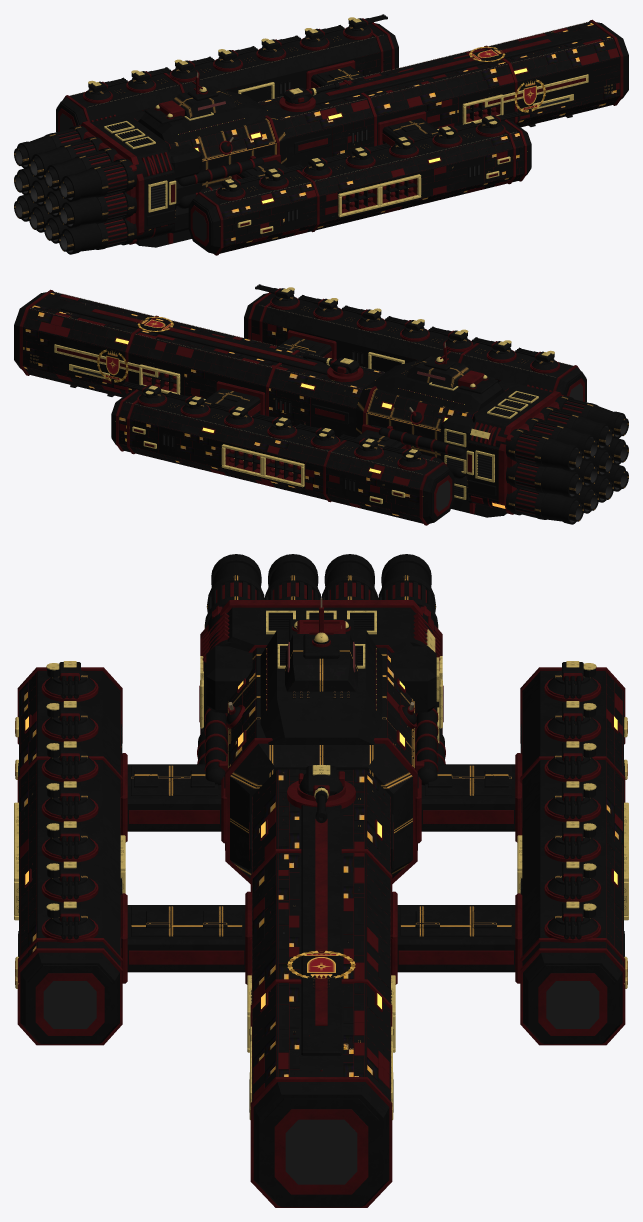
The picture shows the model from 3 angles, top to bottom: view 1: azimuth 30°, elevation 25°; view 2: azimuth 150°, elevation 25°; view 3: azimuth 270°, elevation 25°; orthographic projection. The views are drawn at different scales.
Visible parts, largest first — view 1: pontoons_pont_mid, hull_hull_mid, citadel_mid, pontoons_dark, citadel_light, engines.thruster.003, hull_mid, engines_mid, hull_dark, engines.thruster.011, engines.thruster.007, engines_dark (+34 smaller); view 2: pontoons_pont_mid, hull_hull_mid, citadel_mid, pontoons_dark, citadel_light, engines.thruster.002, hull_mid, engines_mid, hull_dark, engines.thruster.010, engines.thruster.006, engines_dark (+34 smaller); view 3: pontoons_pont_mid, hull_hull_mid, pontoons_dark, pontoons_mid, citadel_light, citadel_mid, hull_mid, pontoons_light, hull_dark, engines.thruster.002, engines.thruster.003, engines_mid (+23 smaller).
Boxes of the visible parts, box(x1,y1,x2,y2) form: pontoons_pont_mid: box(57, 23, 531, 253); hull_hull_mid: box(259, 21, 628, 167); citadel_mid: box(135, 87, 270, 247); pontoons_dark: box(58, 22, 526, 255); citadel_light: box(136, 86, 286, 188); engines.thruster.003: box(59, 144, 202, 201); hull_mid: box(294, 30, 582, 154); engines_mid: box(82, 115, 176, 240); hull_dark: box(298, 19, 623, 150); engines.thruster.011: box(59, 206, 188, 254); engines.thruster.007: box(59, 179, 202, 228); engines_dark: box(79, 114, 175, 244); pontoons_pont_mid: box(111, 293, 585, 523); hull_hull_mid: box(14, 291, 383, 437); citadel_mid: box(372, 357, 507, 517); pontoons_dark: box(116, 292, 584, 525); citadel_light: box(356, 356, 506, 458); engines.thruster.002: box(440, 414, 583, 471); hull_mid: box(60, 300, 348, 424); engines_mid: box(466, 385, 560, 510); hull_dark: box(19, 289, 344, 420); engines.thruster.010: box(454, 476, 583, 524); engines.thruster.006: box(440, 449, 583, 498); engines_dark: box(467, 384, 563, 514); pontoons_pont_mid: box(19, 671, 623, 1043); hull_hull_mid: box(252, 770, 390, 1207); pontoons_dark: box(15, 667, 627, 1045); pontoons_mid: box(18, 724, 624, 1042); citadel_light: box(224, 634, 418, 878); citadel_mid: box(198, 619, 444, 850); hull_mid: box(249, 805, 393, 1204); pontoons_light: box(131, 765, 511, 936); hull_dark: box(245, 819, 397, 1207); engines.thruster.002: box(378, 554, 439, 713); engines.thruster.003: box(204, 554, 264, 713); engines_mid: box(200, 607, 442, 733).
Size of the model in its own units: 1000 by 256 by 491.
9 materials, 6 textured.
